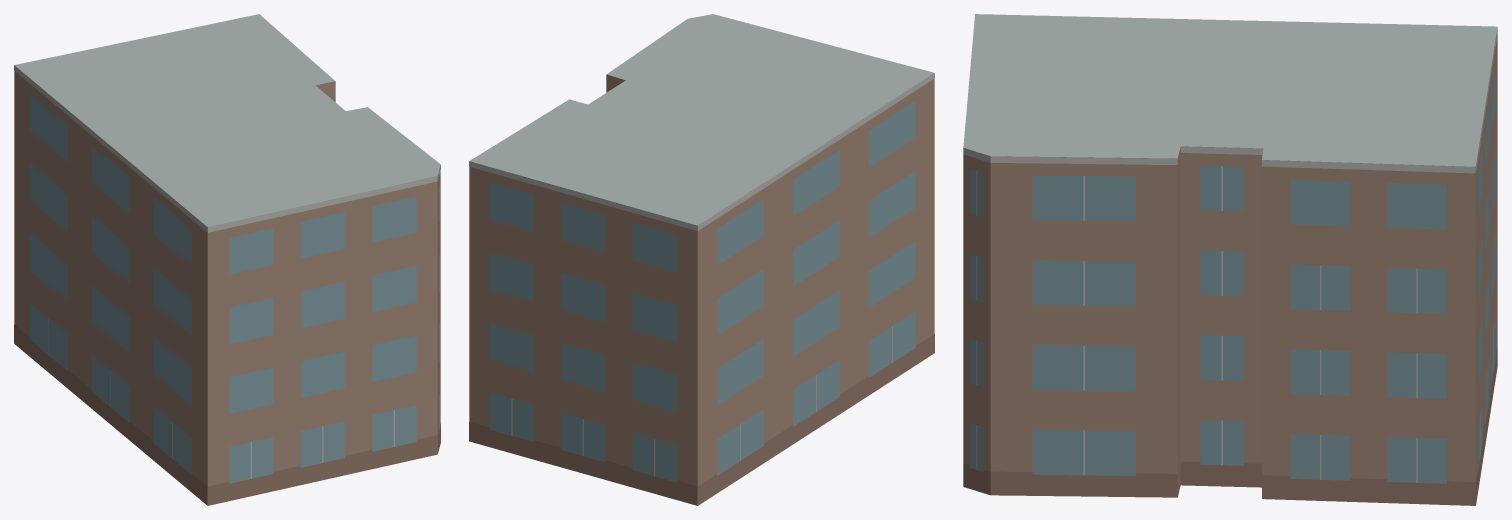
File: survey-upis-32930430.glb
3 renders of one model, left to right at view 1: azimuth 30°, elevation 25°; view 2: azimuth 150°, elevation 25°; view 3: azimuth 270°, elevation 25°, orthographic. The views are drawn at different scales.
Visible parts, largest first — view 1: survey-upis-32930430.tmp; view 2: survey-upis-32930430.tmp; view 3: survey-upis-32930430.tmp.
Boxes of the visible parts, x1,y1,x2,y2 form: survey-upis-32930430.tmp: [14, 14, 440, 505]; survey-upis-32930430.tmp: [469, 14, 934, 505]; survey-upis-32930430.tmp: [963, 14, 1497, 505].
Bounding box in the file's own units: 11.99 × 12.4 × 17.72.
